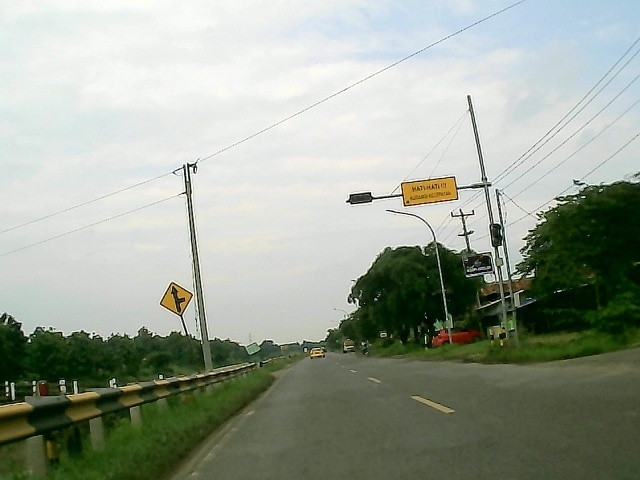Simpang kanan dengan prioritas: (158, 279, 194, 319)
